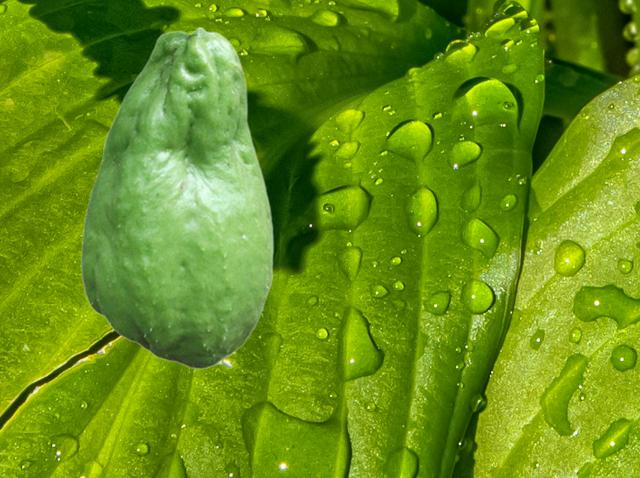sayote: (80, 26, 273, 368)
